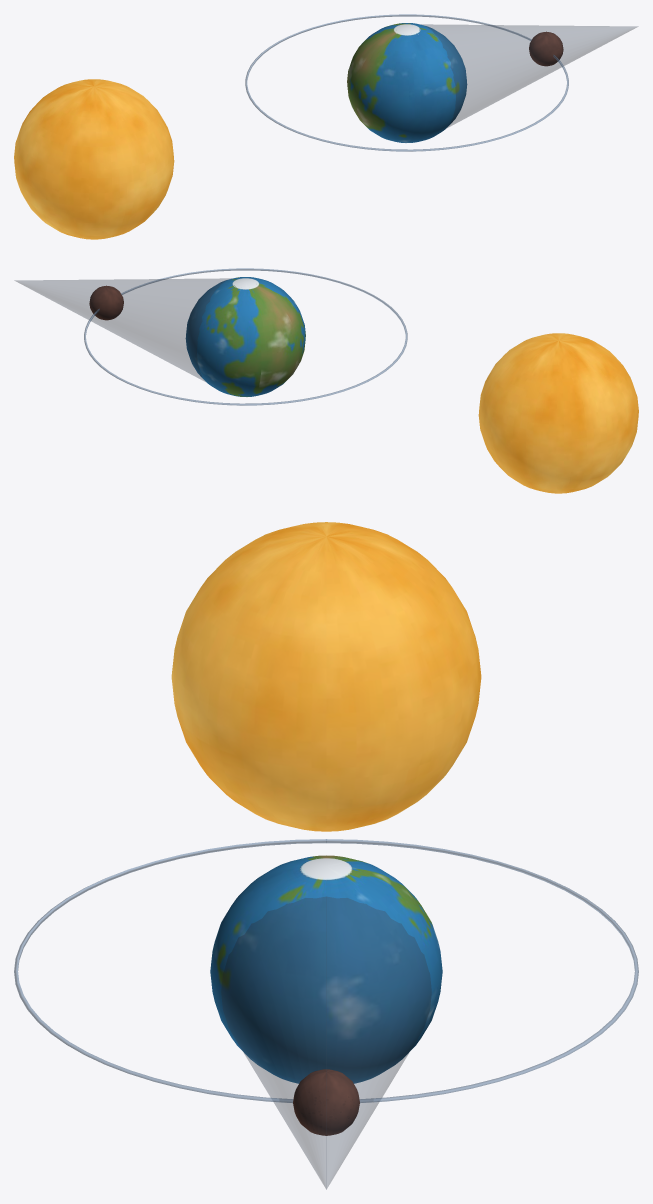
Rendered from gerhana-bulan.glb.
3 views of the same model, one above another, from view 1: azimuth 30°, elevation 25°; view 2: azimuth 150°, elevation 25°; view 3: azimuth 270°, elevation 25° (orthographic). The views are drawn at different scales.
Parts seen in each view (by area): view 1: Matahari, Bumi, BayanganBumi, OrbitBulan, Bulan; view 2: Matahari, Bumi, BayanganBumi, OrbitBulan, Bulan; view 3: Matahari, Bumi, BayanganBumi, OrbitBulan, Bulan.
Boxes of the visible parts, box(x1,y1,x2,y2) form: Matahari: box(14, 79, 174, 239); Bumi: box(347, 23, 467, 142); BayanganBumi: box(421, 24, 638, 127); OrbitBulan: box(245, 14, 568, 151); Bulan: box(529, 31, 563, 66); Matahari: box(478, 333, 638, 493); Bumi: box(185, 277, 305, 396); BayanganBumi: box(14, 278, 231, 381); OrbitBulan: box(84, 268, 407, 405); Bulan: box(89, 285, 123, 320); Matahari: box(171, 522, 481, 831); Bumi: box(210, 855, 442, 1083); BayanganBumi: box(221, 896, 431, 1189); OrbitBulan: box(14, 839, 638, 1102); Bulan: box(293, 1069, 359, 1135).
Bounding box in the file's own units: 0.636 × 0.144 × 0.2904.
Materials: 5 (3 with a texture image).
